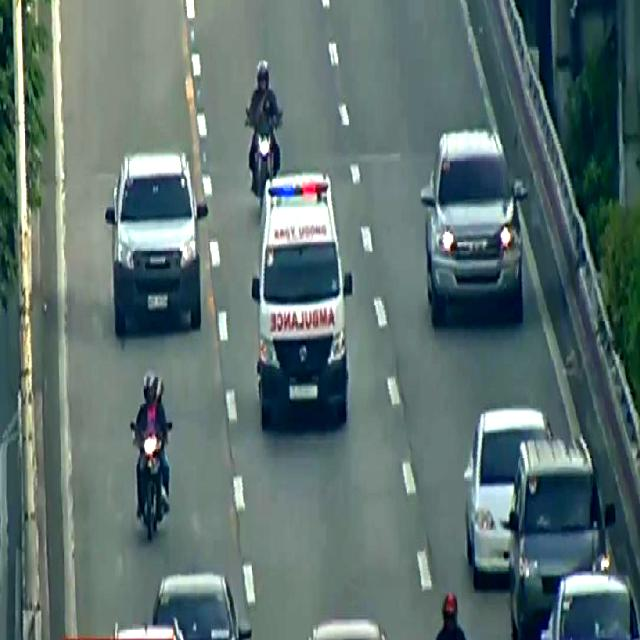emergency: (252, 175, 354, 427)
